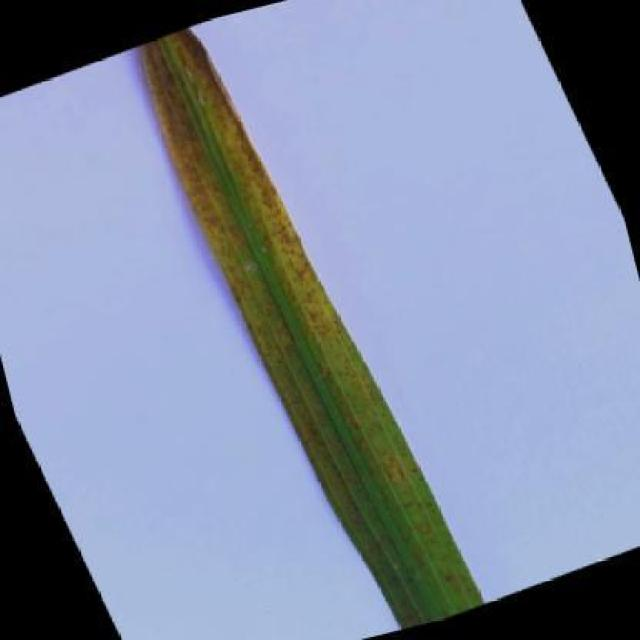Rice False Smut: (132, 1, 466, 637)
